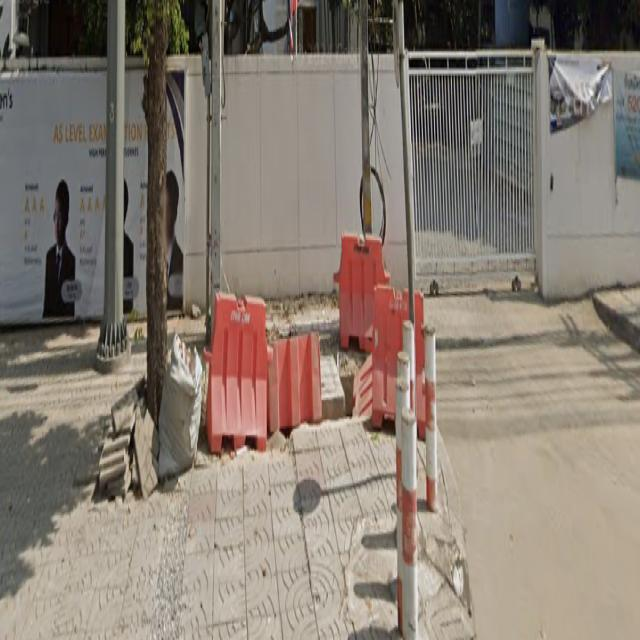fallen_object: (297, 206, 444, 449), (190, 262, 318, 448)
